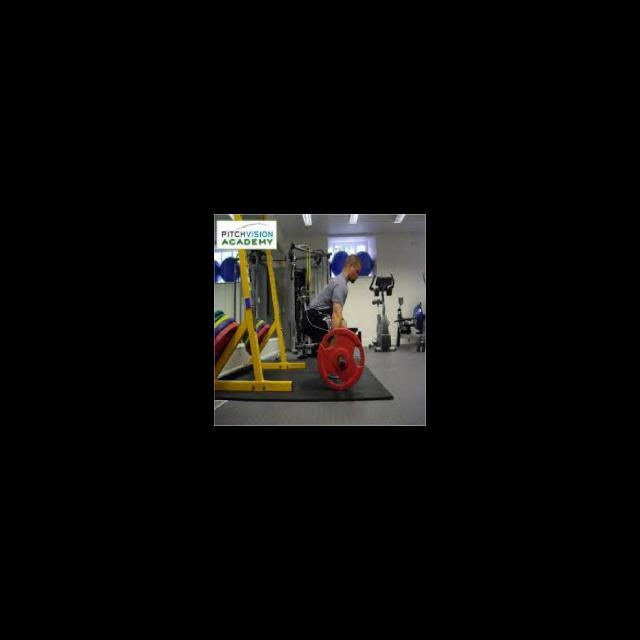barbell: (315, 324, 367, 393)
